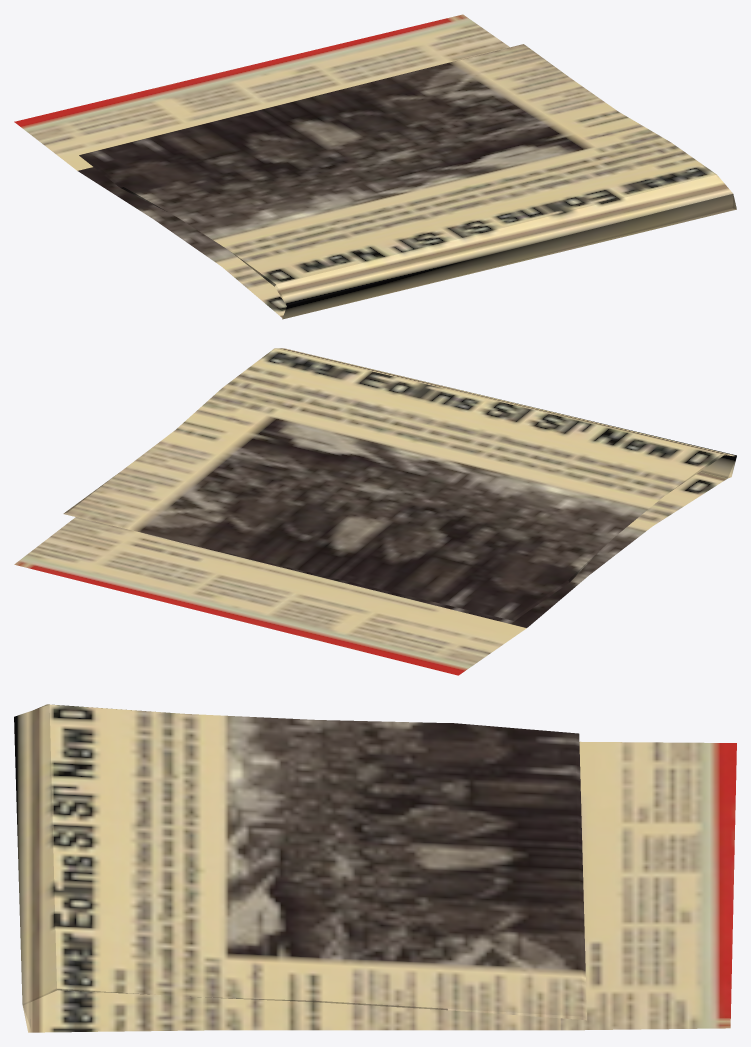
File: PAPER 6.fbx
The picture shows the model from 3 angles, top to bottom: view 1: azimuth 30°, elevation 25°; view 2: azimuth 150°, elevation 25°; view 3: azimuth 270°, elevation 25°; orthographic projection. The views are drawn at different scales.
Parts seen in each view (by area): view 1: PAPER.005; view 2: PAPER.005; view 3: PAPER.005.
Part boxes in pixels (x1,y1,x2,y2): PAPER.005: (14,14,736,319); PAPER.005: (14,348,736,675); PAPER.005: (14,704,736,1032).
Bounding box in the file's own units: 0.3684 × 0.3868 × 0.0228.
